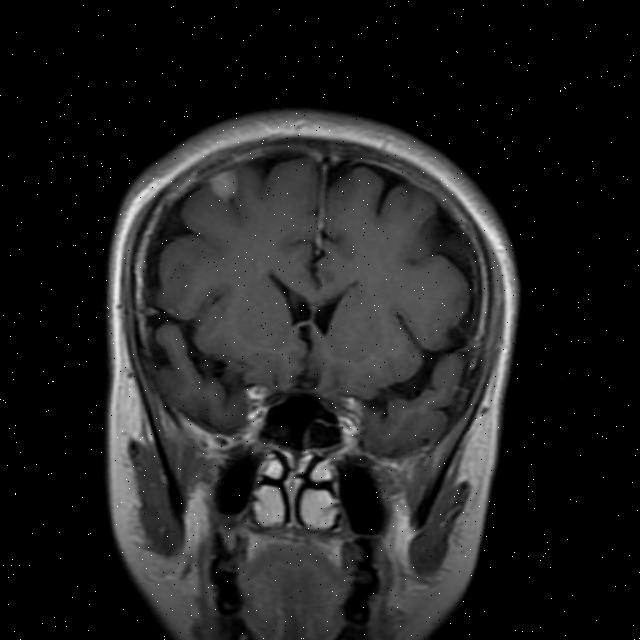Meningioma: (206, 168, 240, 203)
